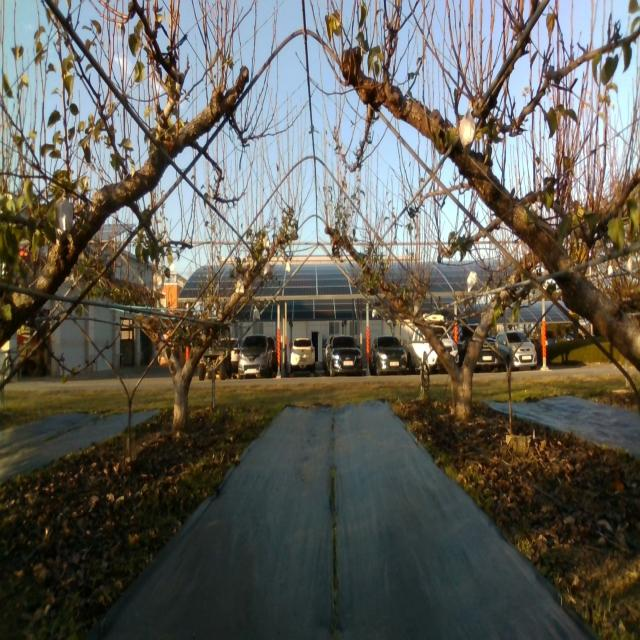pearbags: (55, 197, 73, 232), (459, 112, 475, 148), (153, 270, 165, 292), (467, 272, 478, 294)
